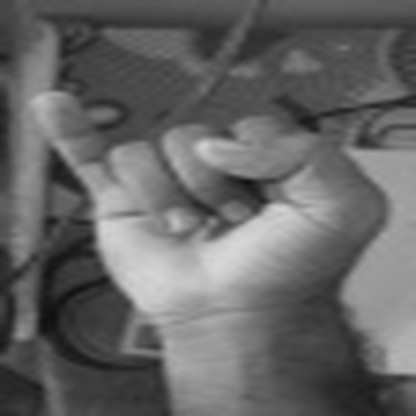i: (32, 75, 395, 299)
